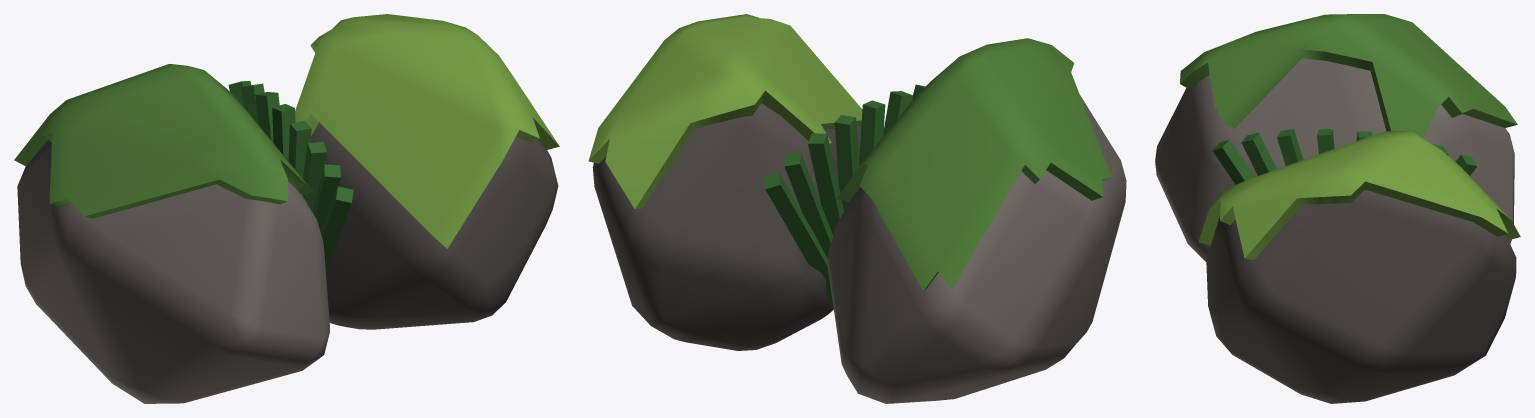
File: rocher_foret_2.glb
3 renders of one model, left to right at view 1: azimuth 30°, elevation 25°; view 2: azimuth 150°, elevation 25°; view 3: azimuth 270°, elevation 25°, orthographic. The views are drawn at different scales.
Parts seen in each view (by area): view 1: roche_pierre.012, mousse_mousse_claire.002, roche_pierre_sombre.010, mousse_mousse.006, fougere_feuille_sombre.002; view 2: roche_pierre.012, roche_pierre_sombre.010, mousse_mousse.006, mousse_mousse_claire.002, fougere_feuille_sombre.002; view 3: roche_pierre_sombre.010, roche_pierre.012, mousse_mousse.006, mousse_mousse_claire.002, fougere_feuille_sombre.002.
Part boxes in pixels (box(x1,y1,x2,y2)): roche_pierre.012: box(17, 140, 329, 403); mousse_mousse_claire.002: box(295, 14, 559, 248); roche_pierre_sombre.010: box(311, 122, 558, 329); mousse_mousse.006: box(14, 64, 312, 218); fougere_feuille_sombre.002: box(228, 81, 353, 272); roche_pierre.012: box(827, 95, 1126, 403); roche_pierre_sombre.010: box(592, 103, 861, 350); mousse_mousse.006: box(837, 38, 1111, 291); mousse_mousse_claire.002: box(588, 14, 862, 209); fougere_feuille_sombre.002: box(763, 84, 925, 306); roche_pierre_sombre.010: box(1206, 189, 1516, 403); roche_pierre.012: box(1155, 58, 1514, 261); mousse_mousse.006: box(1180, 14, 1517, 138); mousse_mousse_claire.002: box(1198, 131, 1520, 260); fougere_feuille_sombre.002: box(1212, 129, 1477, 184).
Bounding box in the file's own units: 0.8339 × 0.5299 × 0.6347.
